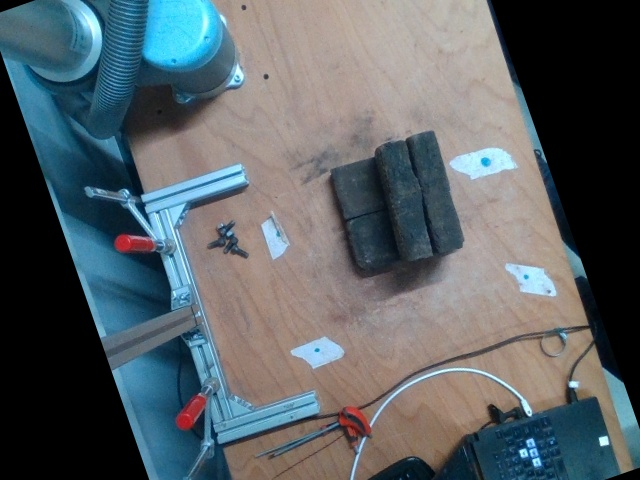brick-side: (415, 134, 463, 249), (383, 141, 430, 257)
